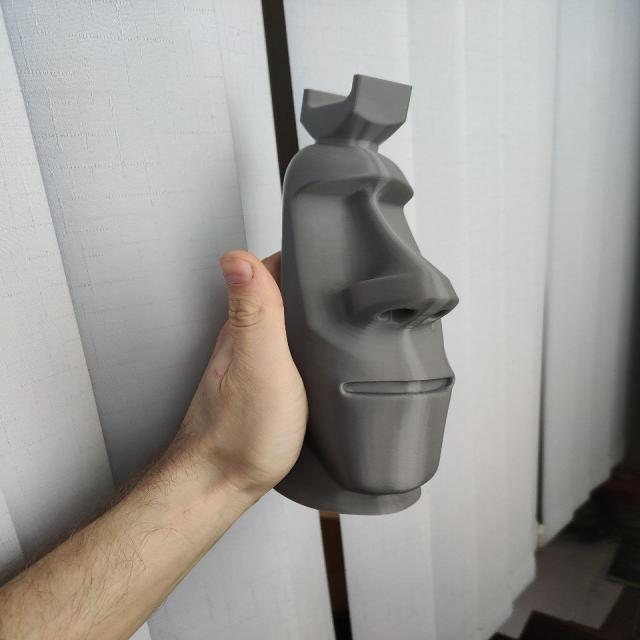Without deffect: (225, 66, 478, 526)
